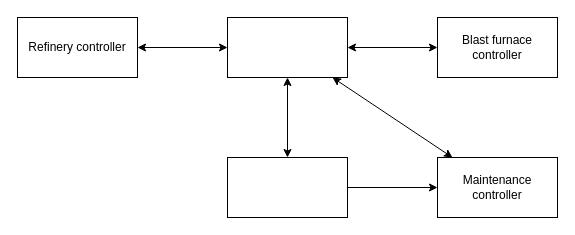
The diagram is 575 pixels wide and 235 high, and some of its shapes have lost their labels. The shapes that lost their labels are listed below. From the top down, each one's centre as x and y in pixels, then its label:
At pixel 287 47: "Main controller".
At pixel 287 187: "Cart controller".
